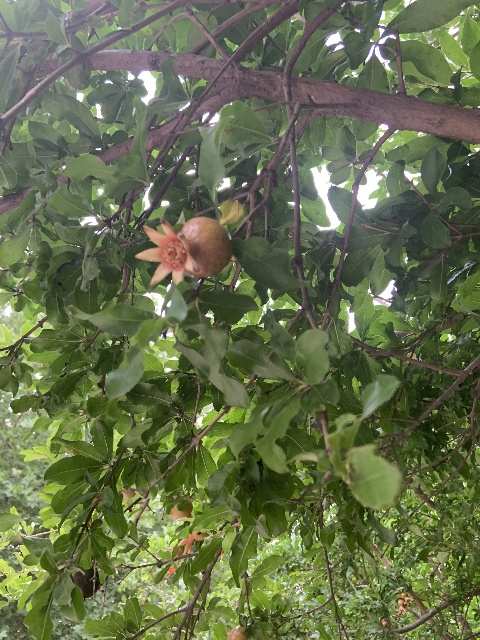early-fruit: (134, 216, 232, 286), (177, 529, 207, 556), (169, 499, 192, 520), (401, 592, 414, 606), (396, 599, 407, 615)
